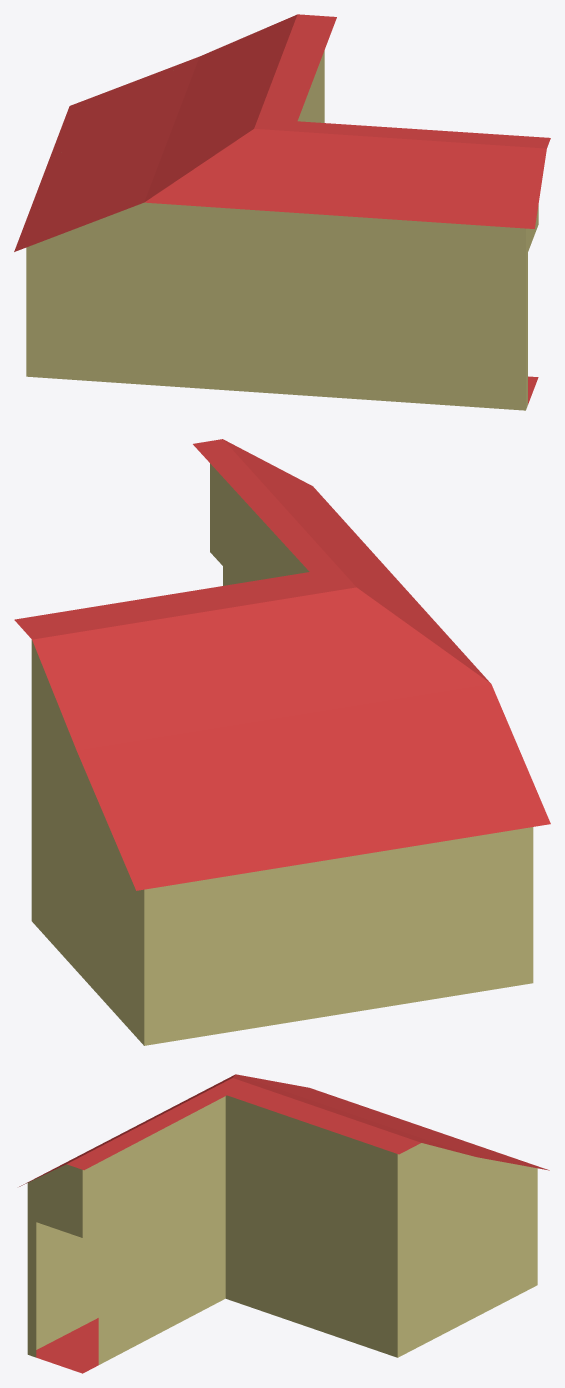
3 views of the same model, one above another, from view 1: azimuth 30°, elevation 25°; view 2: azimuth 150°, elevation 25°; view 3: azimuth 270°, elevation 25° (orthographic). The views are drawn at different scales.
Size of the model in its own units: 21.93 by 28.01 by 12.03.
